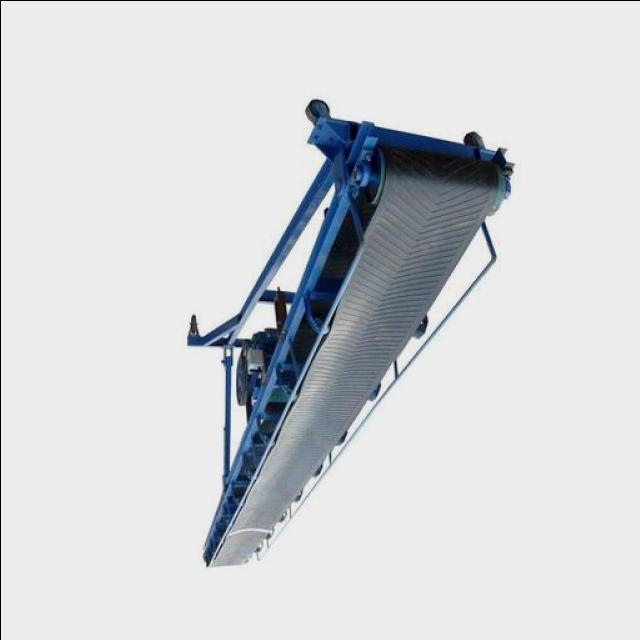conveyor: (210, 145, 499, 567)
